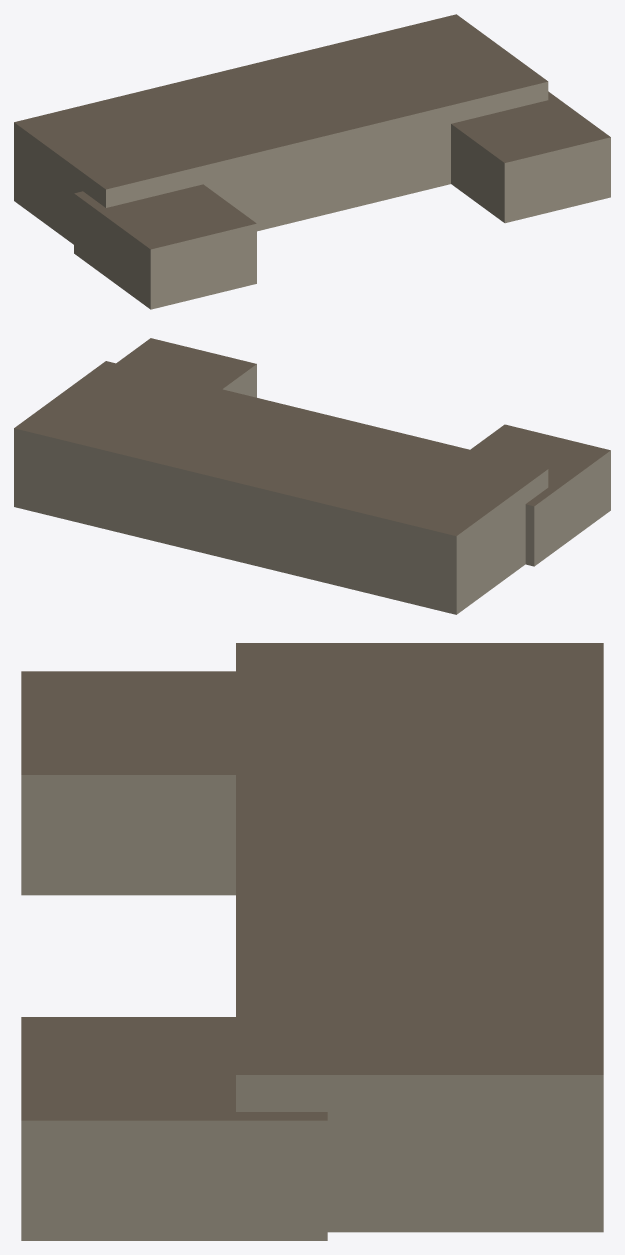
The model's file is hostel-low.glb.
3 views of the same model, one above another, from view 1: azimuth 30°, elevation 25°; view 2: azimuth 150°, elevation 25°; view 3: azimuth 270°, elevation 25° (orthographic). The views are drawn at different scales.
Bounding box in the file's own units: 104 × 17 × 57.
